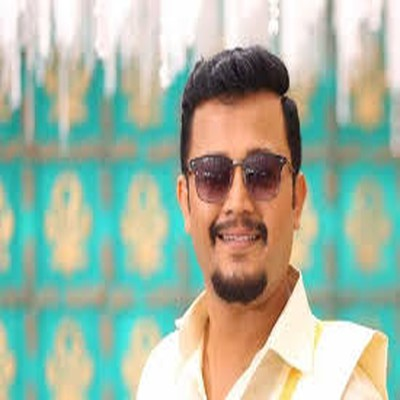eywear: (163, 121, 298, 211)
